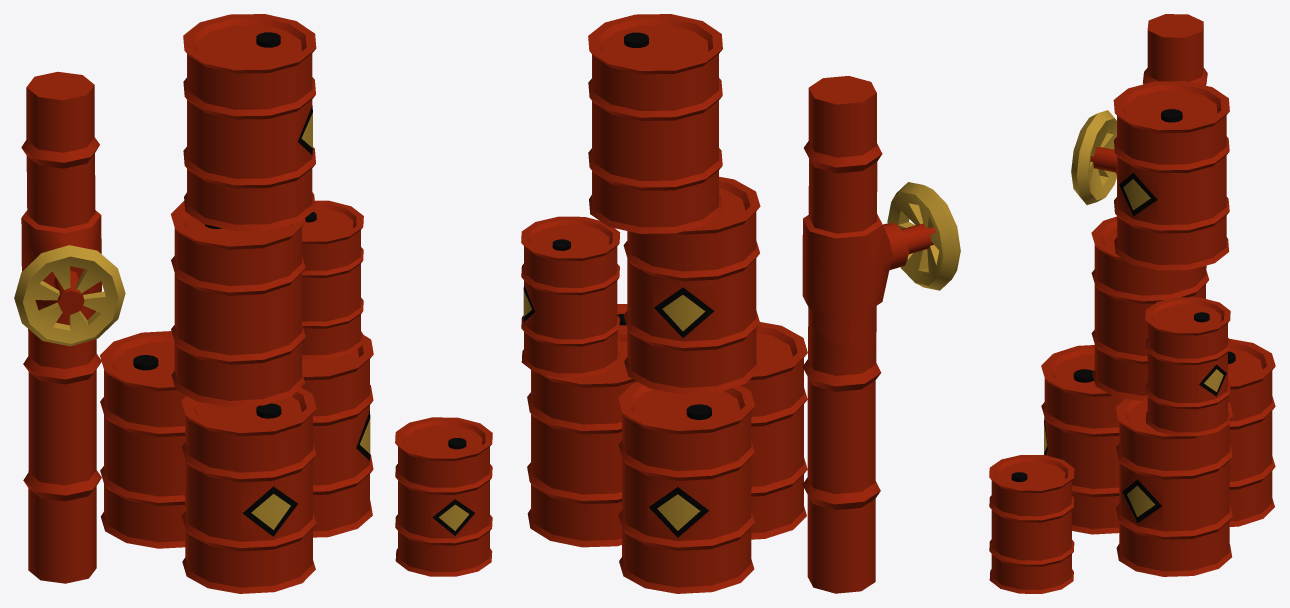
File: Fuel Factory Inside Fractured.fbx
3 renders of one model, left to right at view 1: azimuth 30°, elevation 25°; view 2: azimuth 150°, elevation 25°; view 3: azimuth 270°, elevation 25°, orthographic. The views are drawn at different scales.
Visible parts, largest first — view 1: Fuel Factory Inside Fracture, Fuel Factory Inside Fracture.003, Fuel Factory Inside Fracture.007, Fuel Factory Inside Fracture.002, Fuel Factory Inside Fracture.005, Fuel Factory Inside Fracture.001, Fuel Factory Inside Fracture.006, Fuel Factory Inside Fracture.004; view 2: Fuel Factory Inside Fracture.005, Fuel Factory Inside Fracture, Fuel Factory Inside Fracture.006, Fuel Factory Inside Fracture.002, Fuel Factory Inside Fracture.007, Fuel Factory Inside Fracture.001, Fuel Factory Inside Fracture.003; view 3: Fuel Factory Inside Fracture.005, Fuel Factory Inside Fracture, Fuel Factory Inside Fracture.004, Fuel Factory Inside Fracture.003, Fuel Factory Inside Fracture.007, Fuel Factory Inside Fracture.006, Fuel Factory Inside Fracture.002.
Boxes of the visible parts, x1,y1,x2,y2 form: Fuel Factory Inside Fracture: [183, 14, 316, 230]; Fuel Factory Inside Fracture.003: [181, 387, 316, 593]; Fuel Factory Inside Fracture.007: [170, 201, 305, 407]; Fuel Factory Inside Fracture.002: [14, 71, 125, 346]; Fuel Factory Inside Fracture.005: [301, 200, 373, 537]; Fuel Factory Inside Fracture.001: [23, 311, 101, 583]; Fuel Factory Inside Fracture.006: [100, 331, 185, 548]; Fuel Factory Inside Fracture.004: [395, 417, 492, 576]; Fuel Factory Inside Fracture.005: [521, 216, 637, 547]; Fuel Factory Inside Fracture: [588, 14, 722, 233]; Fuel Factory Inside Fracture.006: [618, 382, 755, 593]; Fuel Factory Inside Fracture.002: [802, 76, 960, 347]; Fuel Factory Inside Fracture.007: [623, 176, 760, 394]; Fuel Factory Inside Fracture.001: [802, 314, 881, 593]; Fuel Factory Inside Fracture.003: [741, 322, 807, 539]; Fuel Factory Inside Fracture.005: [1116, 297, 1232, 576]; Fuel Factory Inside Fracture: [1113, 81, 1229, 270]; Fuel Factory Inside Fracture.004: [989, 455, 1074, 593]; Fuel Factory Inside Fracture.003: [1041, 345, 1124, 534]; Fuel Factory Inside Fracture.007: [1091, 216, 1209, 401]; Fuel Factory Inside Fracture.006: [1228, 338, 1275, 526]; Fuel Factory Inside Fracture.002: [1071, 14, 1207, 204].
Bounding box in the file's own units: 458 × 500 × 308.
